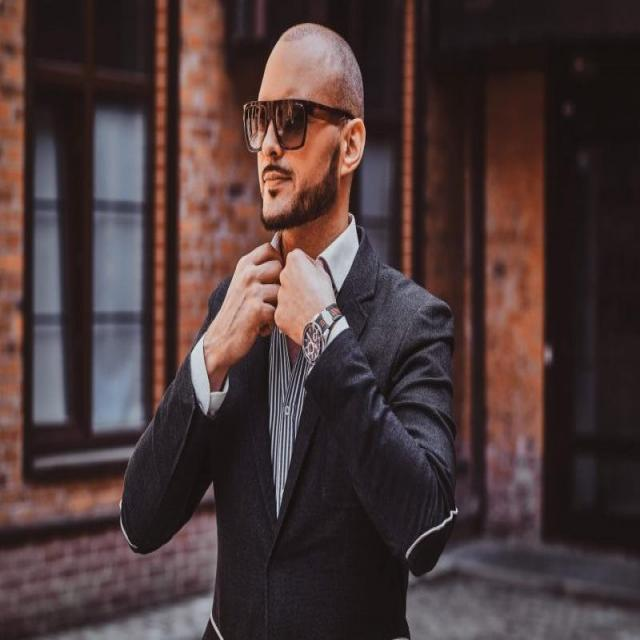beard: (262, 144, 340, 241)
